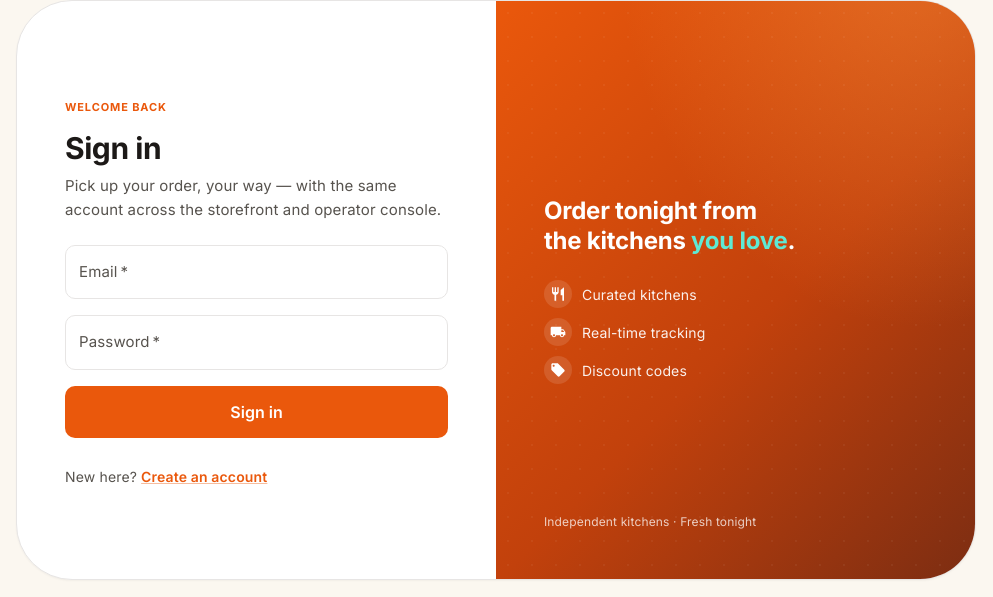
Test case: LoginPage › maps invalid credentials to the password field
Step 1. Type "customer@example.com" into the field labelled "Email *" → point(256, 272), box [65,245,448,299]
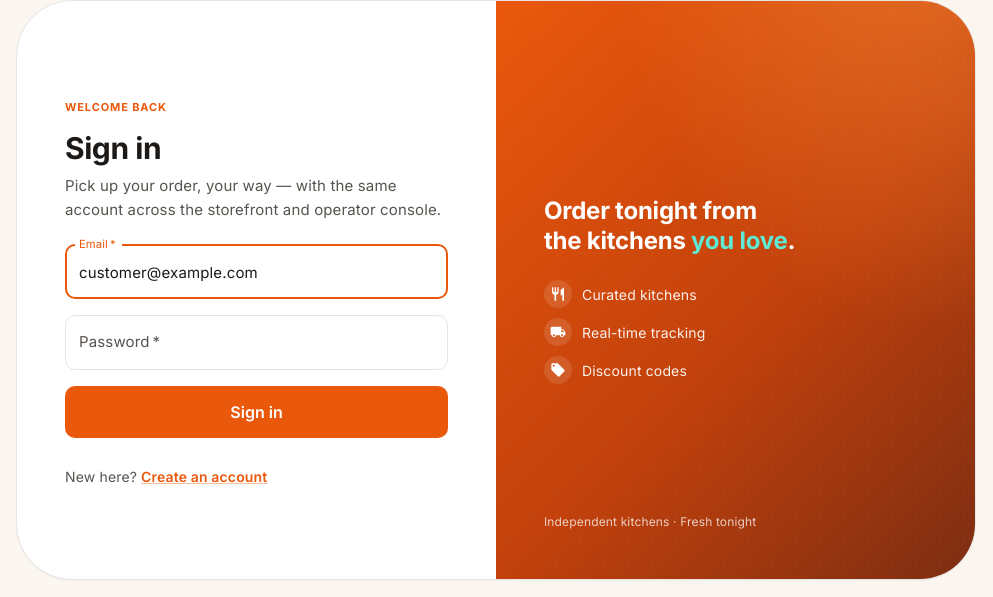
Step 2. Type "wrong-password" into the password field labelled "Password *" → point(256, 343), box [65,315,448,370]
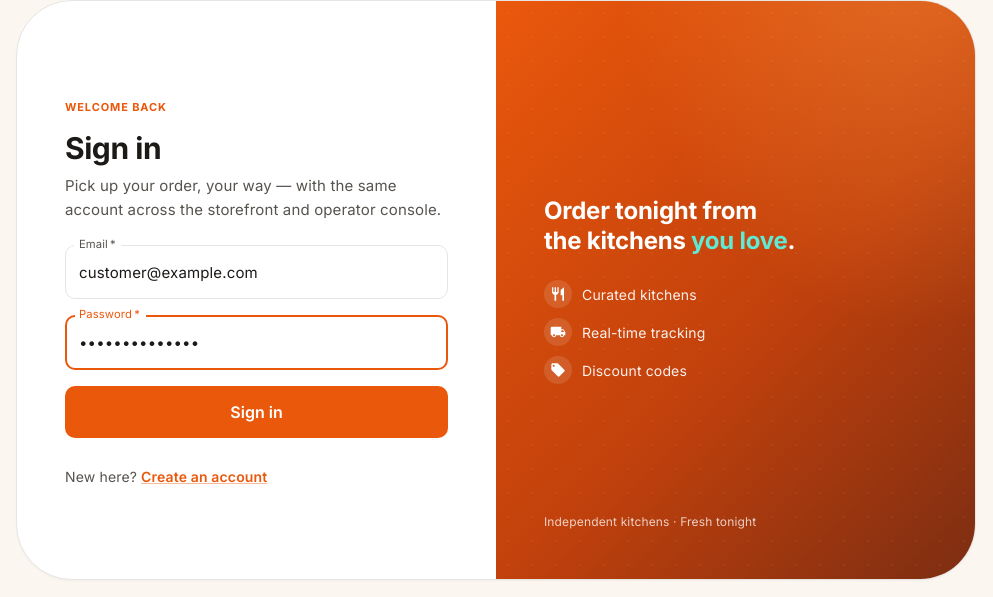
Step 3. Click the button "Sign in" → point(256, 412), box [65,386,448,438]
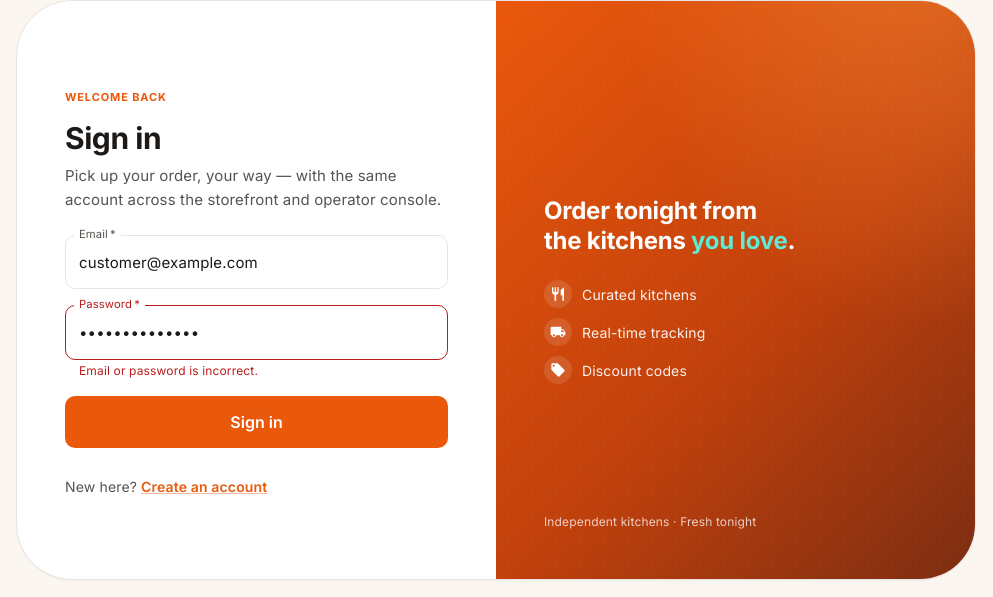
Expected: the text "Email or password is incorrect." is shown, [79,363,258,378]
